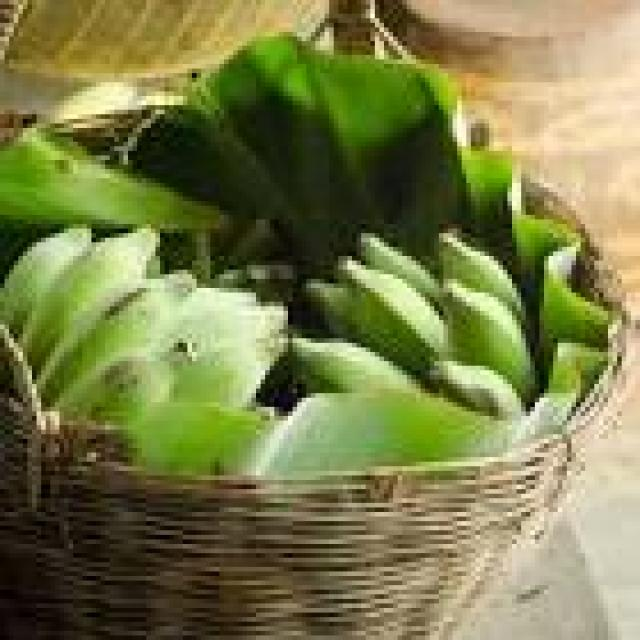banana: (0, 128, 228, 233), (37, 270, 196, 402), (19, 229, 159, 370), (165, 288, 287, 406), (339, 261, 447, 374), (444, 284, 539, 402), (124, 403, 269, 475), (0, 229, 91, 333), (55, 352, 173, 425), (517, 343, 607, 438), (170, 334, 287, 406), (540, 247, 612, 361), (439, 234, 525, 324), (174, 288, 287, 356), (293, 339, 420, 393), (512, 211, 580, 297), (430, 362, 525, 420), (362, 234, 443, 301), (549, 343, 607, 393), (307, 279, 351, 338)
